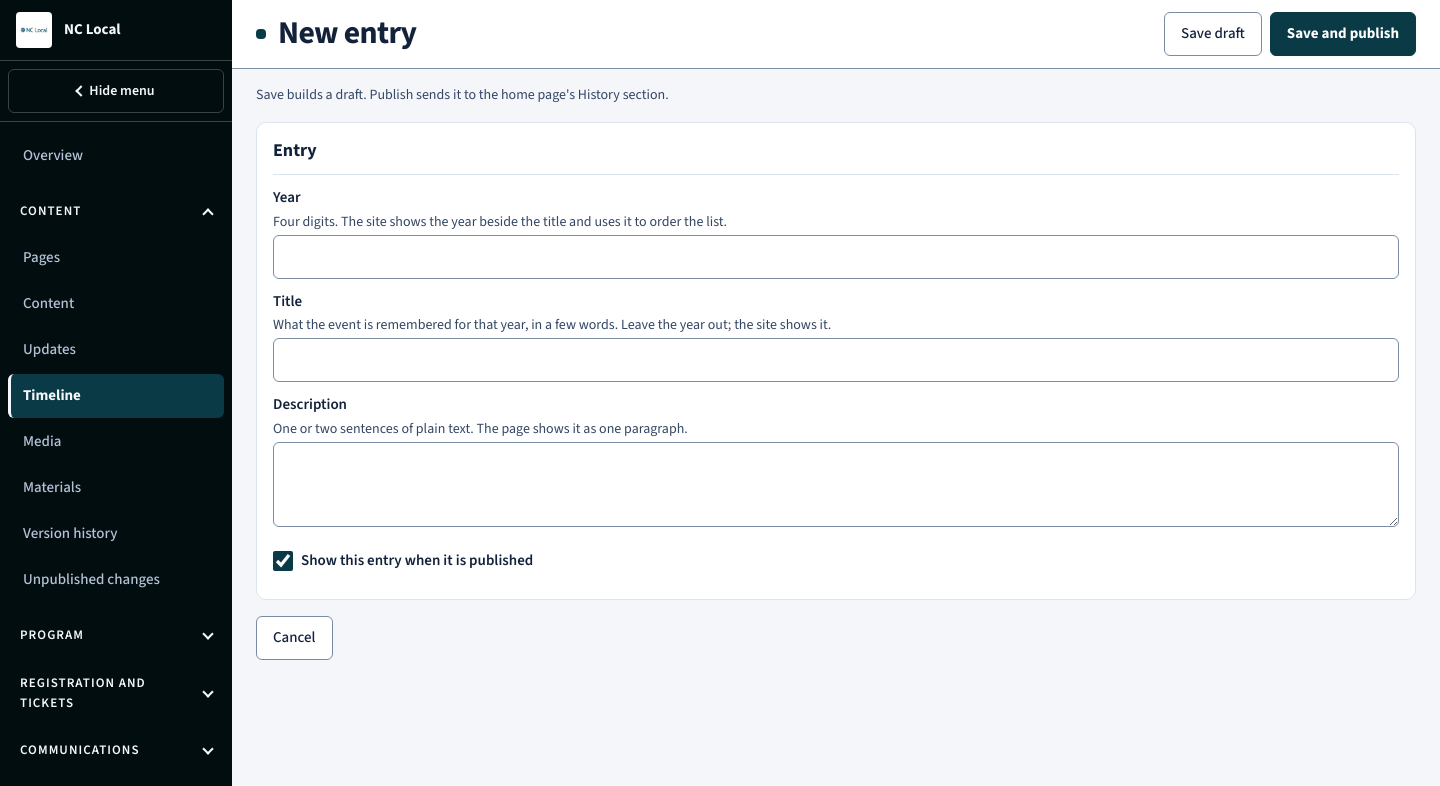
Scenario: the timeline entry editor › marks the year when the server refuses it, and moves focus to the summary
Expected: the heading "New entry" is shown, [278,15,416,53]
Type "2023" into the field labelled "Year" at [836, 257], box [273,235,1399,279]
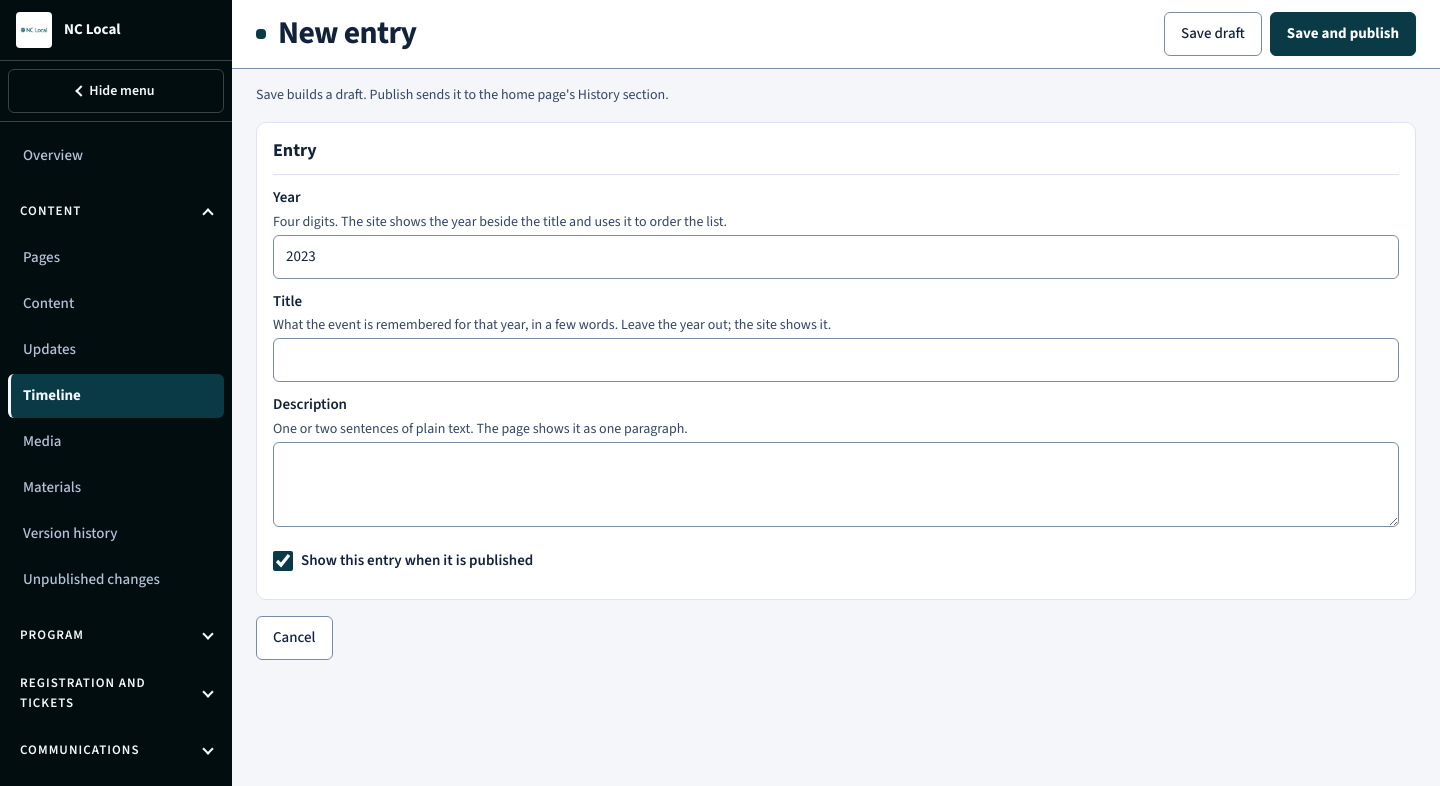
Type "A new edition" into the field labelled "Title" at [836, 360], box [273,338,1399,382]
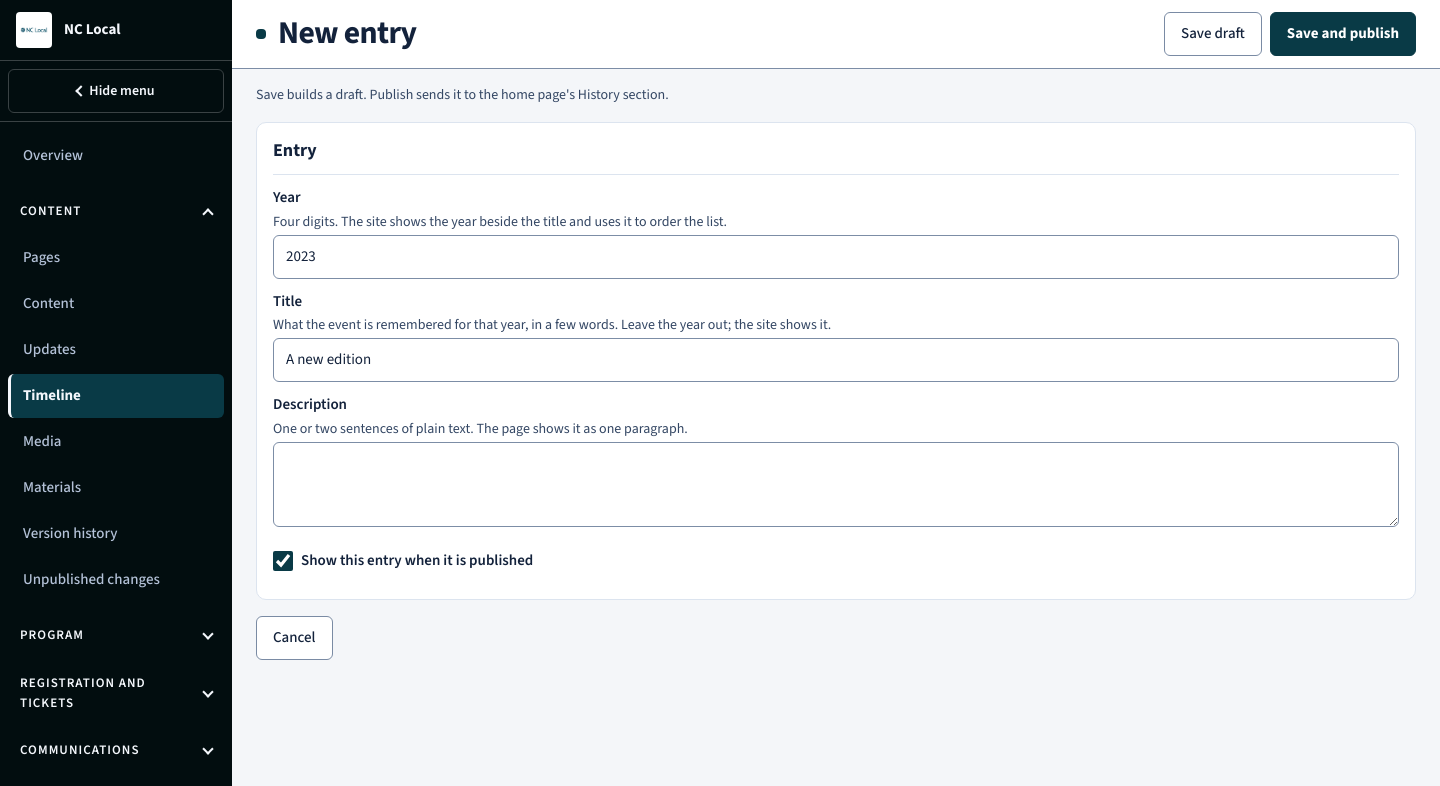
Click the button "Save draft" at [1213, 34], box [1164,12,1262,56]
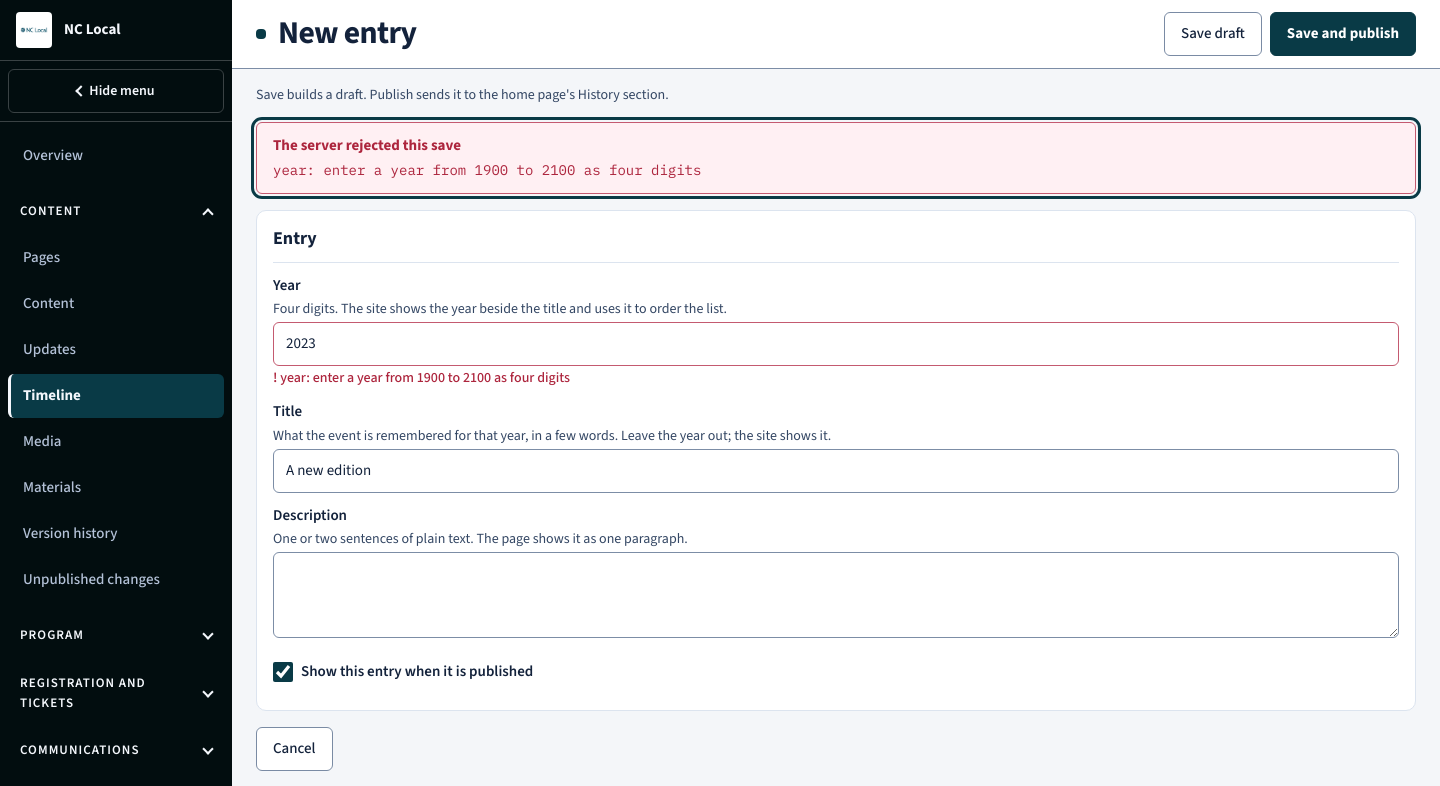
Now the message shows "year: enter a year from 1900 to 2100 as four digits", box [273,160,701,178]
